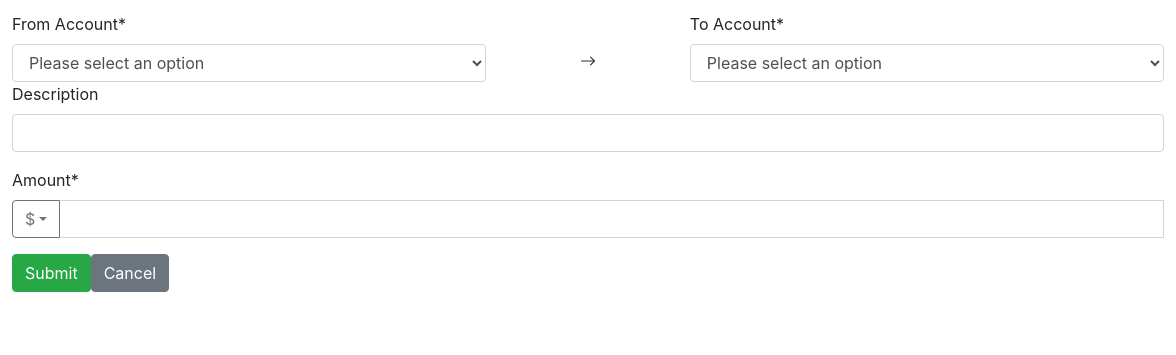
it: TransactionForm › Amount › renders the min validation error for Amount when value is 0
Type "0" into the number field with test id "amount" at (612, 219), box top-left (59, 200), bottom-right (1164, 238)
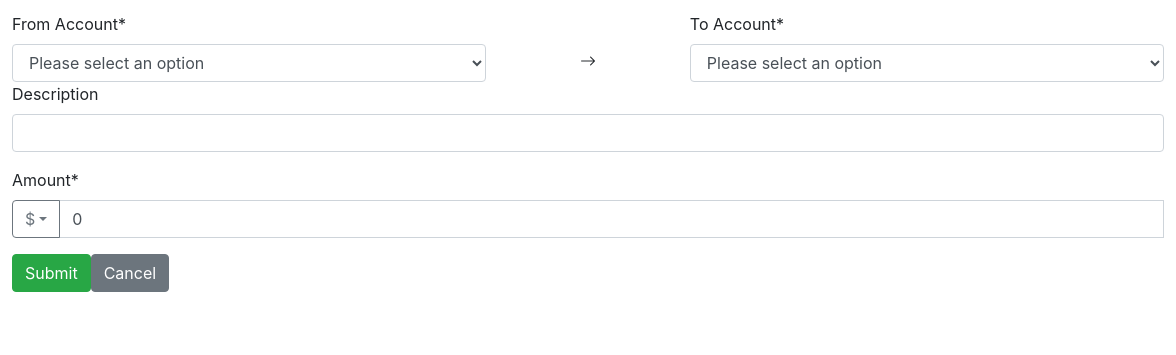
Click the button with test id "submit" at (51, 273), box top-left (12, 254), bottom-right (91, 292)
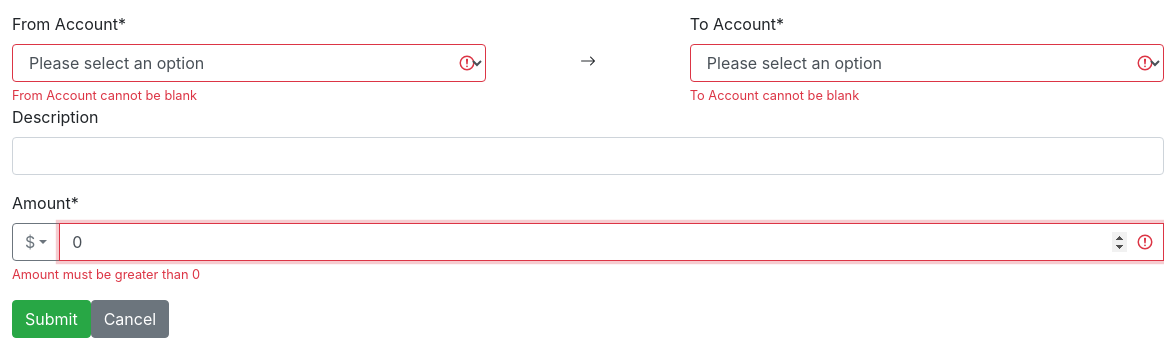
expect the text with test id "invalid-amount" reads "Amount must be greater than 0": met, box top-left (12, 267), bottom-right (200, 282)
